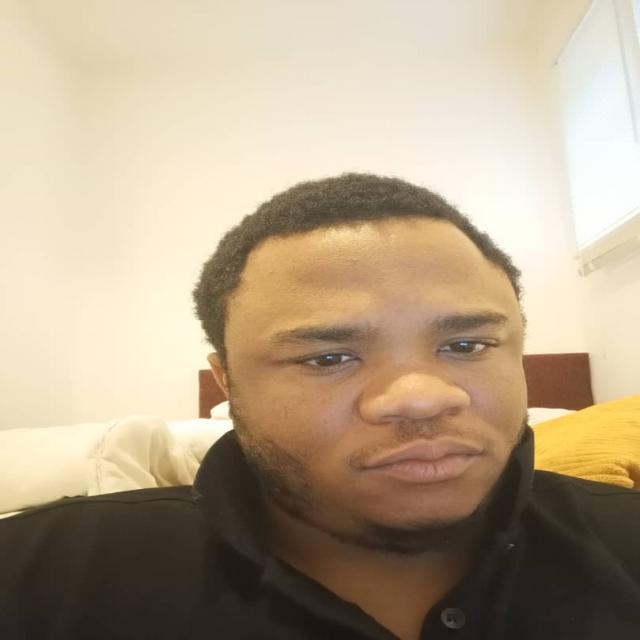sad: (187, 168, 538, 545)
